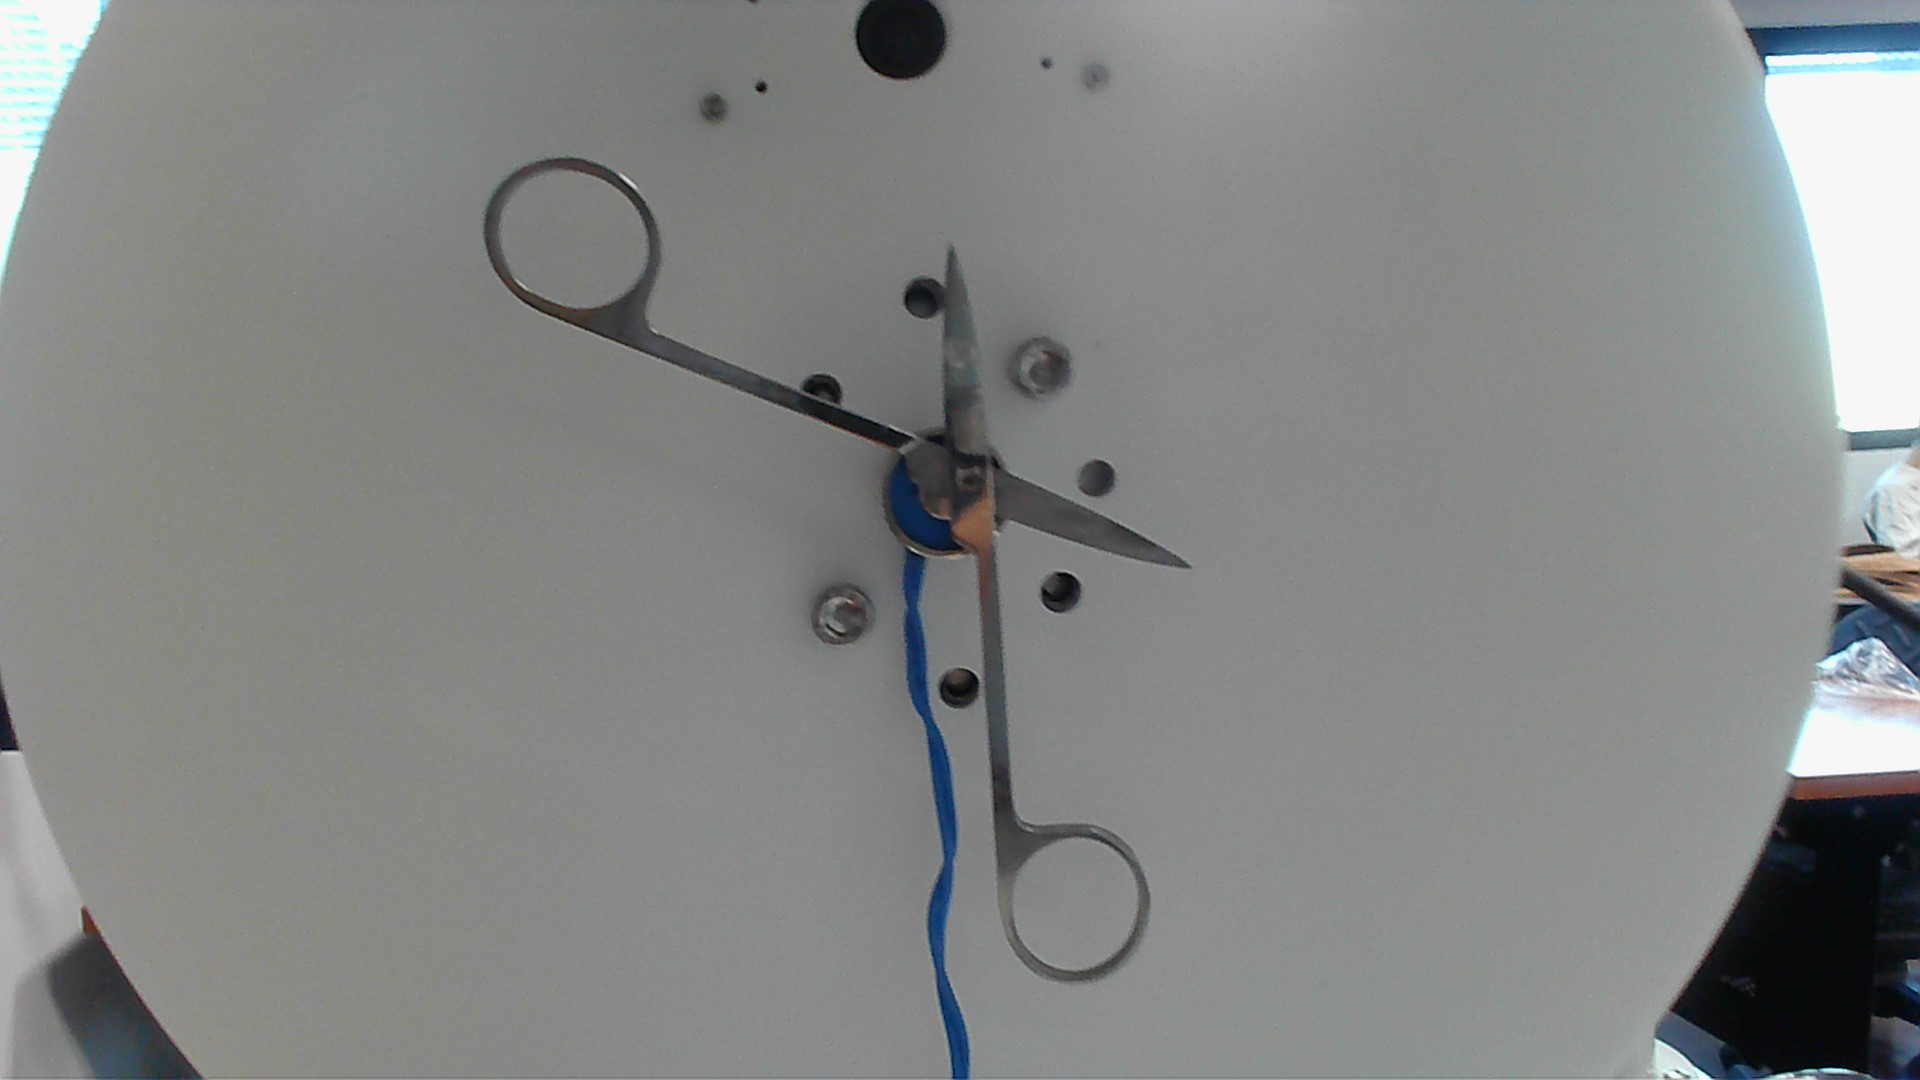Tissues: (936, 328, 987, 378)
